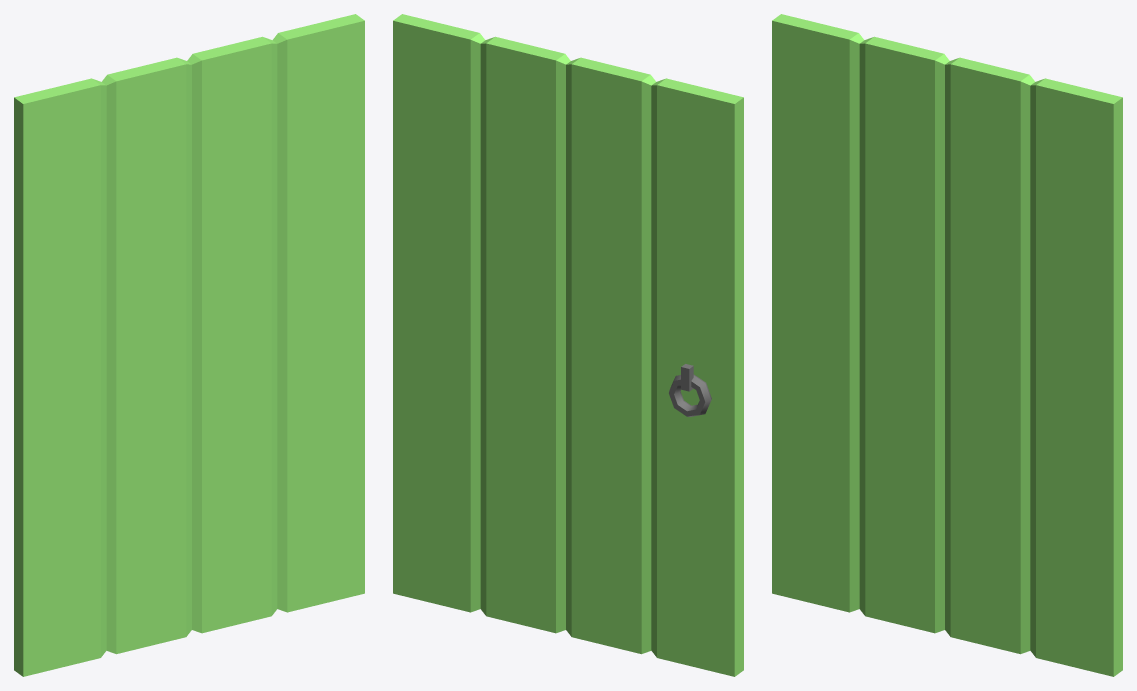
The model's file is SM_Cabin_door.fbx.
3 views of the same model, side by side, from view 1: azimuth 30°, elevation 25°; view 2: azimuth 150°, elevation 25°; view 3: azimuth 330°, elevation 25° (orthographic).
Parts seen in each view (by area): view 1: Box001; view 2: Box001; view 3: Box001.
Boxes of the visible parts, <box> form: Box001: <box>14,14,364,676</box>; Box001: <box>393,14,743,676</box>; Box001: <box>772,14,1122,676</box>.
Size of the model in its own units: 132 by 211 by 10.78.
